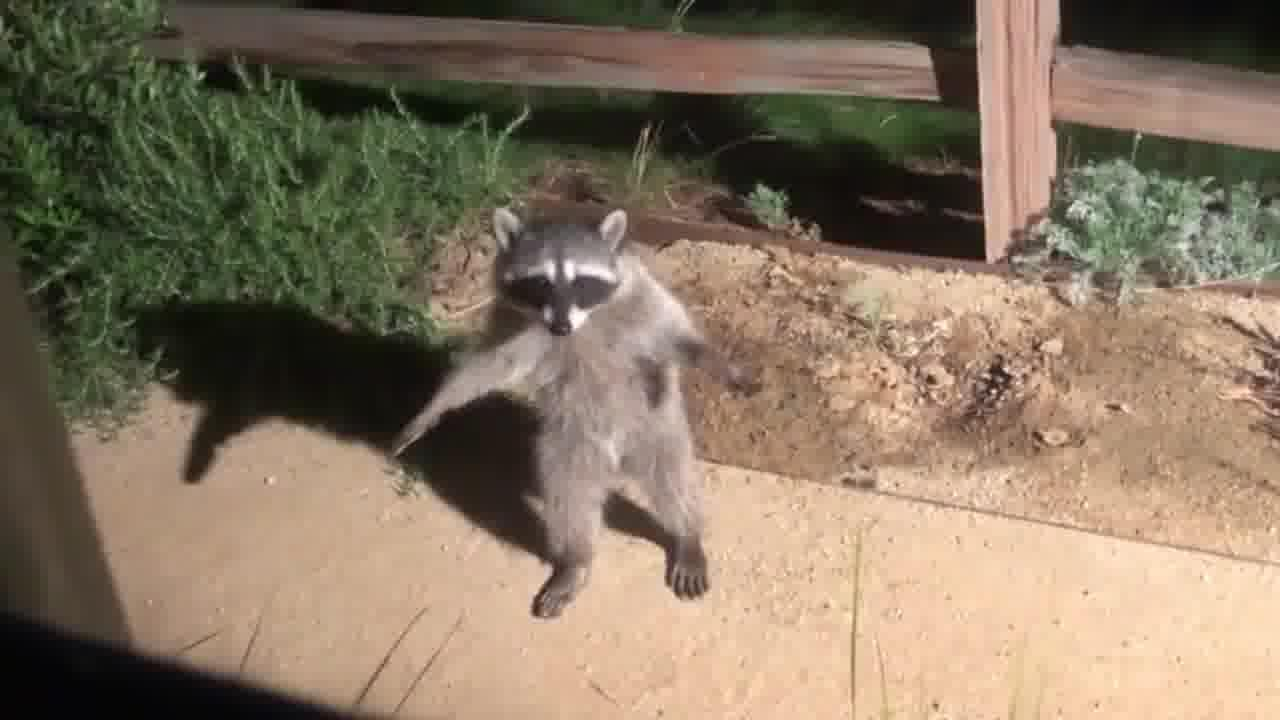raccoon: (379, 192, 776, 630)
